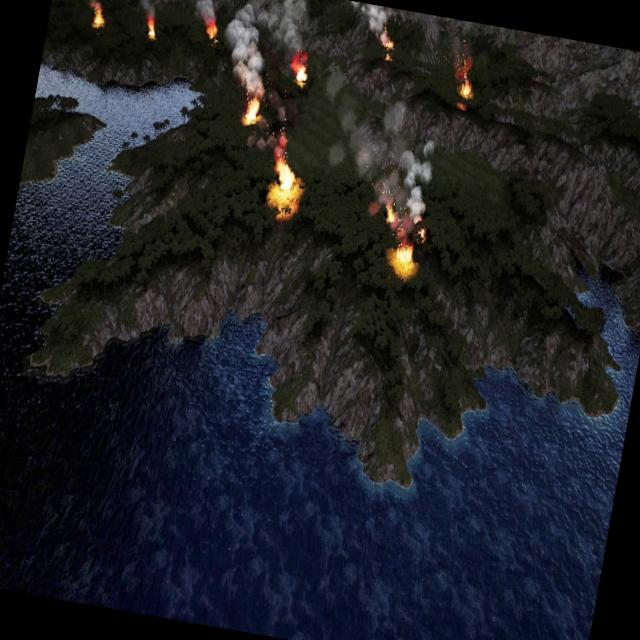fire: (266, 156, 307, 217), (379, 202, 434, 241), (452, 56, 478, 102), (390, 242, 417, 276), (288, 54, 309, 86), (242, 96, 262, 126), (378, 38, 396, 68), (88, 4, 105, 30), (144, 16, 158, 40)
smoke: (306, 80, 448, 220), (213, 0, 313, 93), (344, 0, 392, 48), (178, 0, 220, 23), (139, 0, 160, 23), (86, 0, 105, 11)
